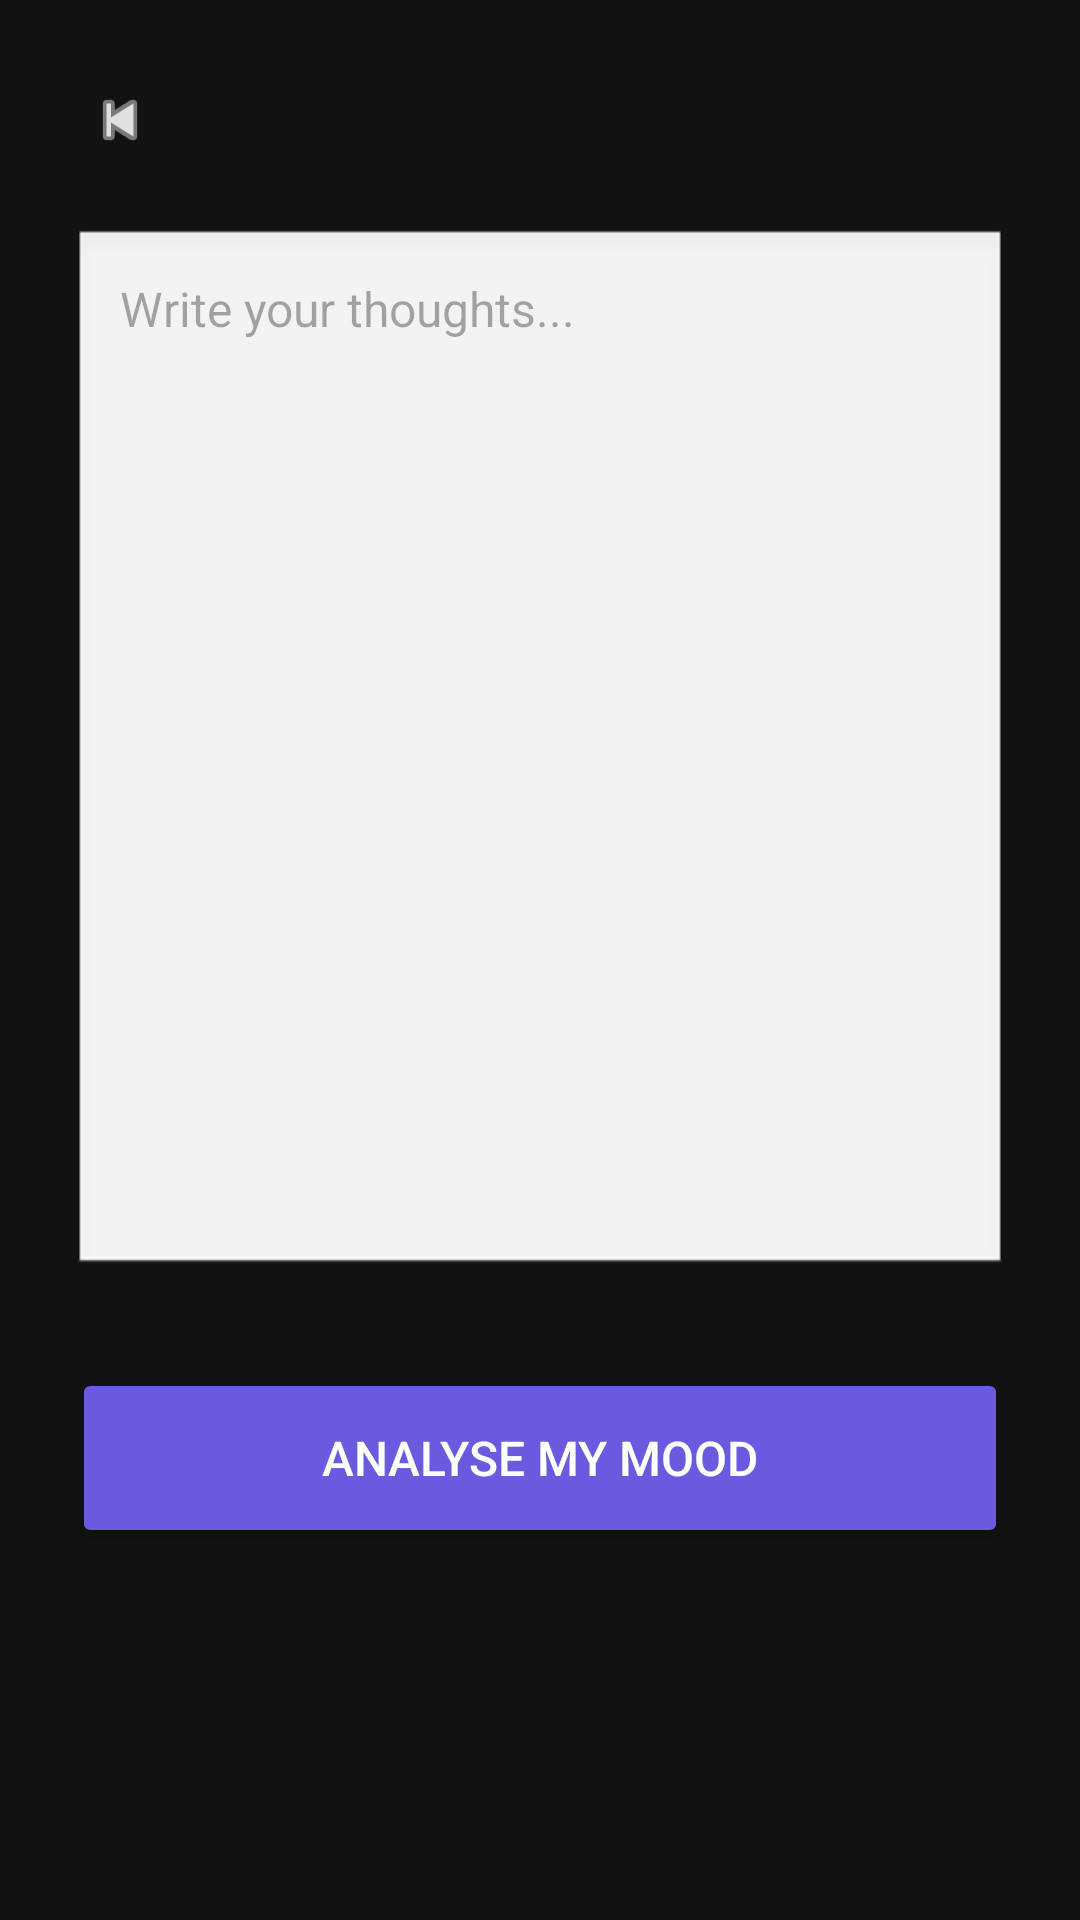

Named icons in this screenshot (1080x1920) and their centers, [x,y]:
Back: [120,120]
